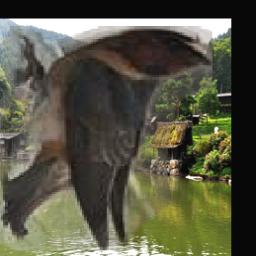Swallow: (0, 26, 213, 250)
